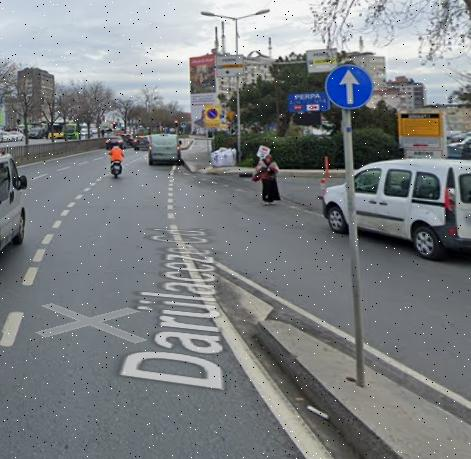forward: (323, 62, 379, 114)
